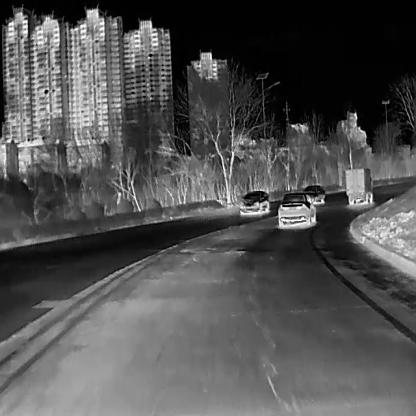car: (278, 191, 316, 224), (240, 188, 269, 214), (302, 184, 325, 202)
truck: (344, 166, 373, 204)
